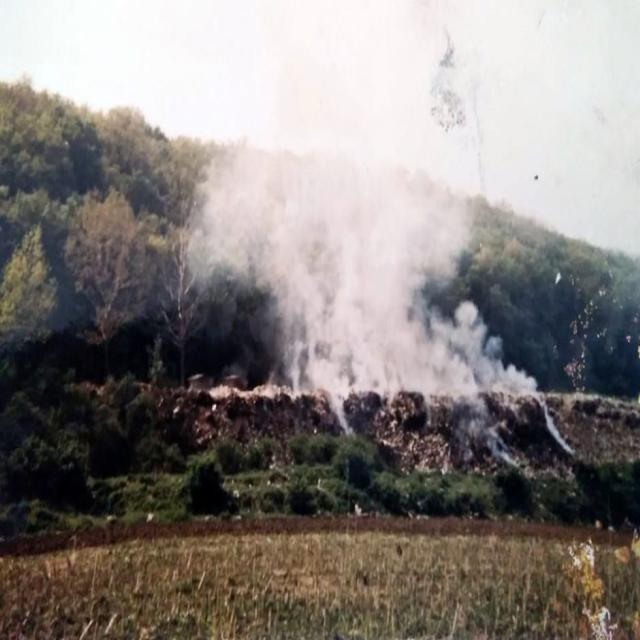Smoke: (171, 0, 536, 418)
